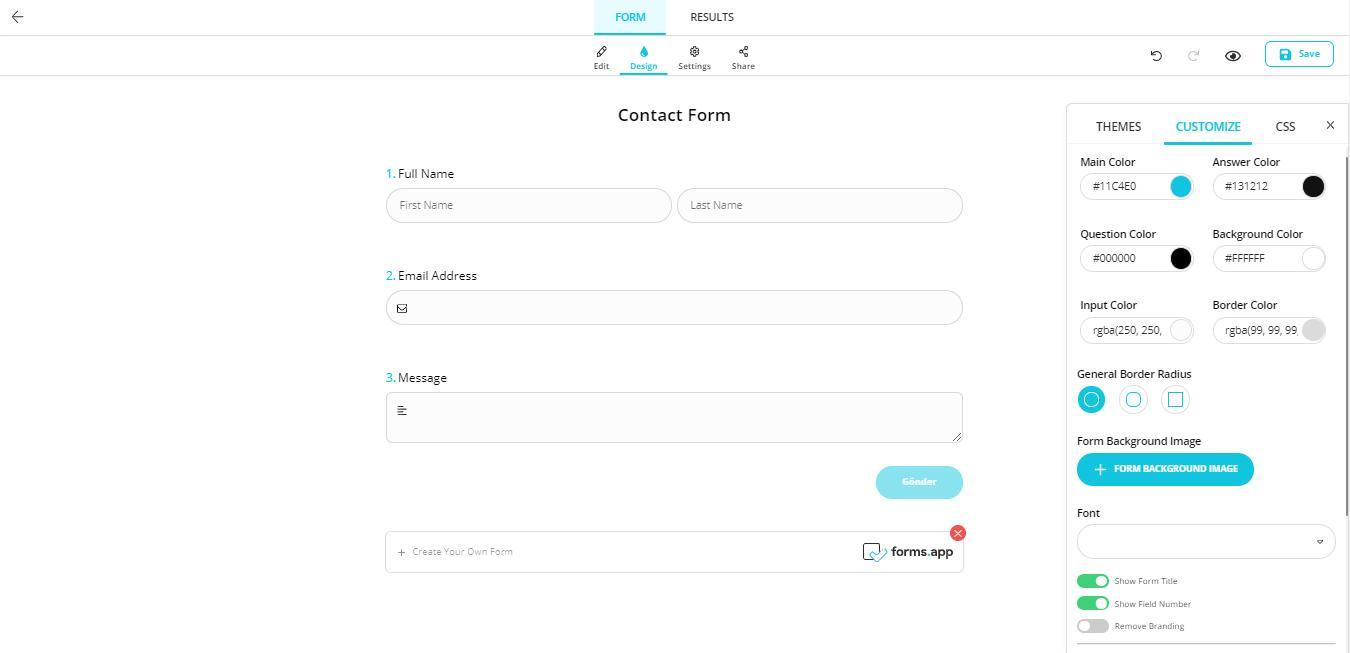button: (1077, 451, 1257, 489), (876, 467, 964, 502), (595, 1, 668, 36), (1266, 41, 1334, 70)
dropdown: (1076, 525, 1339, 562)
icon: (863, 544, 887, 562), (1185, 48, 1205, 68), (1149, 47, 1168, 66), (1222, 49, 1244, 65), (950, 526, 968, 543), (12, 11, 26, 26), (597, 45, 609, 59), (739, 44, 750, 59), (690, 46, 702, 59), (1325, 120, 1337, 133), (640, 46, 650, 59), (399, 549, 406, 559)
input: (389, 393, 965, 444), (385, 289, 967, 327), (385, 189, 673, 225), (679, 188, 965, 224), (1079, 317, 1195, 349), (1213, 246, 1329, 276), (1214, 317, 1328, 347), (1080, 245, 1195, 274), (1081, 175, 1195, 203), (1214, 173, 1327, 201)
label: (616, 105, 733, 126), (1076, 435, 1204, 450), (1075, 368, 1195, 381), (412, 545, 516, 559), (1214, 228, 1305, 243), (385, 268, 481, 282), (387, 164, 458, 182), (1214, 154, 1282, 171), (1174, 119, 1244, 135), (1080, 230, 1159, 243), (1114, 598, 1193, 611), (383, 373, 454, 387), (891, 545, 957, 560), (1080, 155, 1139, 171), (1080, 297, 1140, 312), (1212, 300, 1282, 312), (1094, 119, 1143, 136), (1115, 623, 1186, 634), (1115, 577, 1181, 588), (690, 10, 736, 25), (1273, 120, 1300, 136), (630, 61, 660, 74), (1077, 509, 1105, 521), (679, 62, 712, 72), (732, 62, 758, 71), (592, 62, 612, 72)
radio: (1158, 383, 1193, 415), (1120, 383, 1150, 416), (1078, 386, 1107, 415)
switch: (1076, 596, 1111, 612), (1075, 575, 1113, 589), (1076, 620, 1111, 635)
